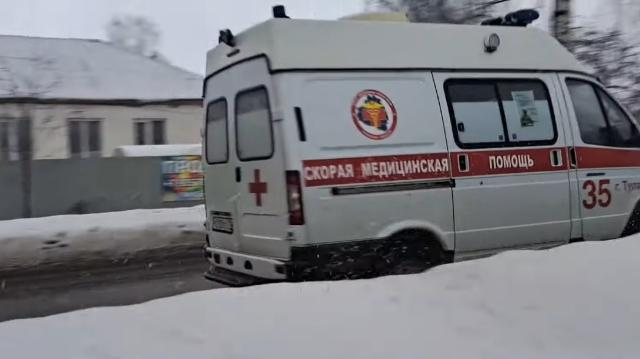ambulance: (205, 8, 640, 293)
